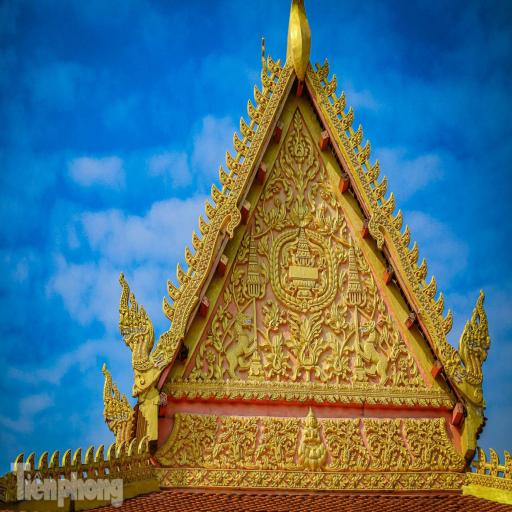hoa: (290, 312, 319, 383), (290, 130, 314, 200), (290, 203, 310, 229), (208, 468, 232, 486), (267, 469, 287, 490), (326, 470, 347, 490), (306, 472, 328, 490), (168, 469, 191, 486), (439, 472, 460, 490), (286, 471, 308, 488), (364, 474, 387, 490), (400, 473, 423, 488), (250, 469, 268, 488), (346, 472, 364, 490), (191, 469, 208, 486), (232, 470, 248, 488), (424, 473, 440, 490), (386, 472, 399, 490), (154, 469, 168, 483), (206, 348, 217, 364), (400, 357, 408, 371)
la: (166, 415, 217, 467), (325, 415, 369, 471), (364, 416, 408, 471), (405, 417, 449, 471), (255, 419, 301, 469), (216, 416, 256, 468), (323, 336, 351, 384), (262, 332, 288, 381), (205, 309, 231, 343), (378, 315, 400, 355), (326, 302, 350, 333), (260, 303, 282, 332), (266, 204, 290, 230), (314, 208, 334, 235), (354, 236, 368, 274), (228, 270, 246, 292), (238, 235, 250, 265), (334, 242, 349, 266), (366, 274, 379, 300), (257, 234, 271, 255)
lua: (224, 148, 243, 175), (233, 128, 249, 158), (210, 183, 228, 207), (246, 99, 263, 124), (240, 114, 255, 142), (218, 164, 234, 190), (254, 82, 269, 108), (161, 297, 176, 323), (260, 68, 276, 92), (185, 246, 200, 271), (177, 262, 190, 288), (350, 123, 364, 147), (166, 278, 180, 302), (358, 139, 372, 162), (368, 158, 380, 184), (325, 73, 338, 97), (476, 444, 486, 474), (488, 447, 498, 477), (268, 55, 282, 76), (191, 232, 205, 253), (376, 174, 388, 197), (318, 58, 330, 81), (415, 258, 427, 280), (342, 106, 354, 128), (503, 449, 512, 478), (335, 89, 346, 112), (442, 310, 453, 332), (198, 215, 210, 235), (410, 238, 419, 264), (426, 274, 436, 297), (434, 291, 444, 313), (384, 194, 394, 214), (402, 224, 411, 246), (205, 199, 215, 218), (394, 210, 402, 230)
ran: (118, 272, 155, 362), (102, 363, 134, 445), (460, 289, 490, 373), (437, 342, 465, 383), (152, 334, 177, 366)
than: (224, 315, 255, 380), (360, 318, 388, 384), (300, 408, 327, 469)
